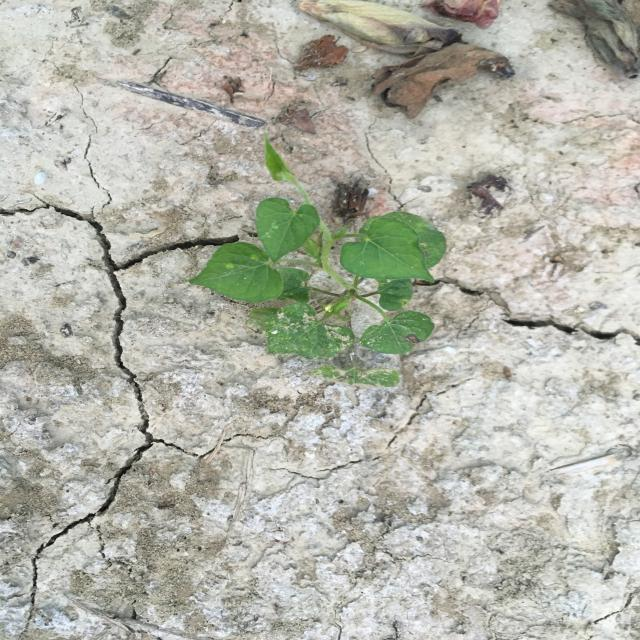MorningGlory: (186, 136, 453, 391)
